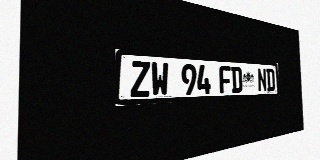4: (197, 64, 211, 94)
9: (181, 63, 197, 95)
D: (231, 66, 242, 93), (266, 68, 275, 91)
F: (219, 66, 231, 93)
N: (257, 68, 267, 92)
W: (151, 62, 169, 96)
Z: (130, 61, 150, 97)
